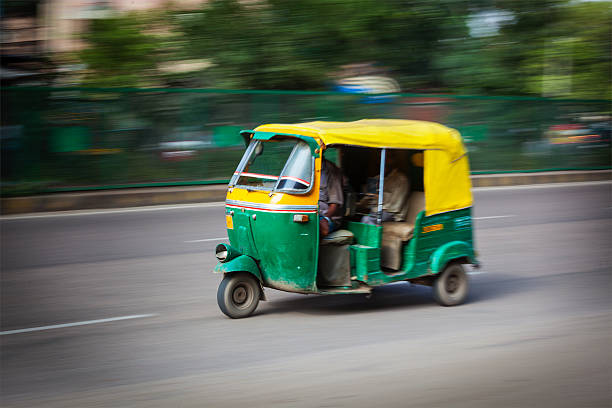threewheel: (212, 116, 481, 320)
